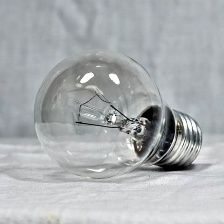light_bulb: (28, 43, 205, 183)
